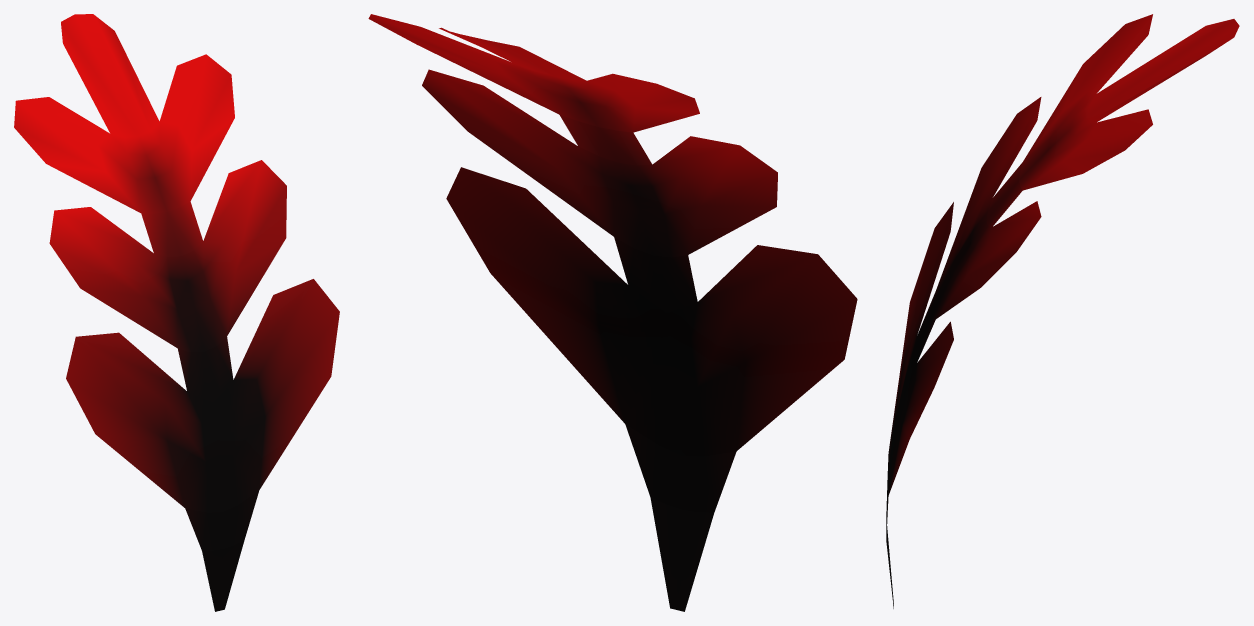
The model's file is SM_Fern_01_LOD0.fbx.
3 renders of one model, left to right at view 1: azimuth 30°, elevation 25°; view 2: azimuth 150°, elevation 25°; view 3: azimuth 270°, elevation 25°, orthographic. The views are drawn at different scales.
Parts seen in each view (by area): view 1: Fern_01_LOD0; view 2: Fern_01_LOD0; view 3: Fern_01_LOD0.
Boxes of the visible parts, x1=… form: Fern_01_LOD0: x1=14, y1=14, x2=339, y2=611; Fern_01_LOD0: x1=368, y1=14, x2=857, y2=611; Fern_01_LOD0: x1=886, y1=14, x2=1239, y2=608.
Size of the model in its own units: 56.79 by 97.07 by 53.29.
